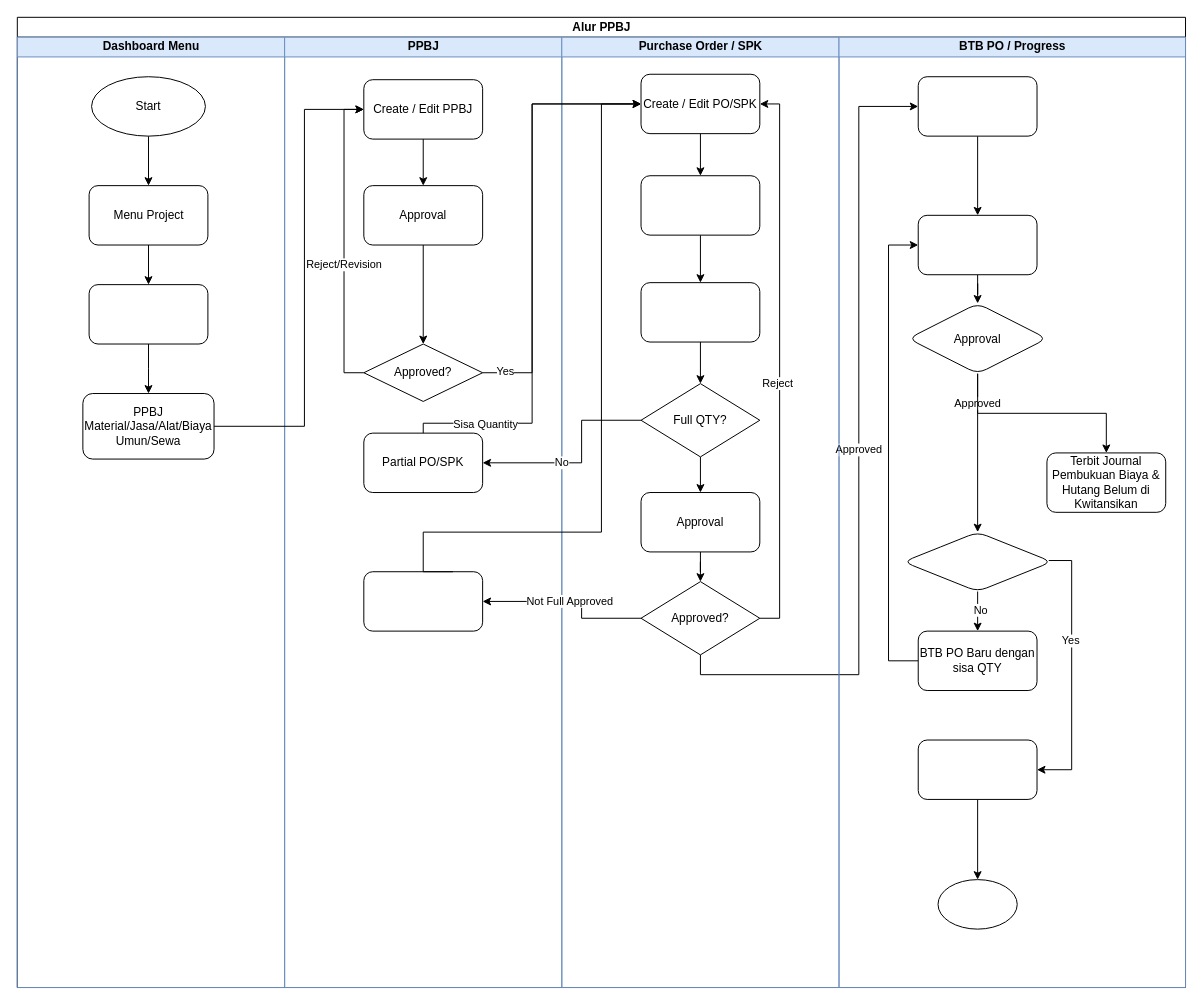
This 1203x1005 diagram has some shape labels left out. Here are the shapes that lost their labels. From the top down, the centre of each, then its label:
pixel 977 106: BTB PO Created
pixel 700 205: Select Project and PPBJ to make PO/SPK
pixel 977 244: Input Quantity BTB PO
pixel 148 314: Navbar PPBJ
pixel 700 312: Insert Amount of QTY to PO
pixel 977 561: QTY = QTY Po?
pixel 423 601: Draft
pixel 977 769: PO Complete
pixel 977 904: Finish
